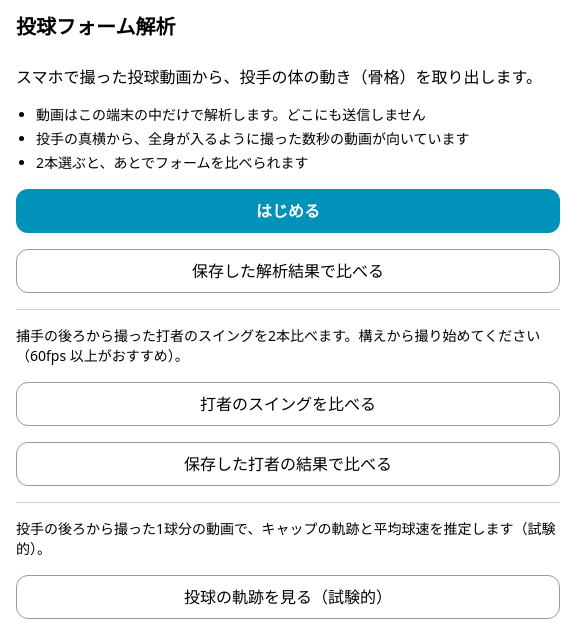
Test: App › はじめに画面から、打者のスイングの比較に進める
Click the button "打者のスイングを比べる": coordinates (288, 404) left=16, top=382, right=560, bottom=426
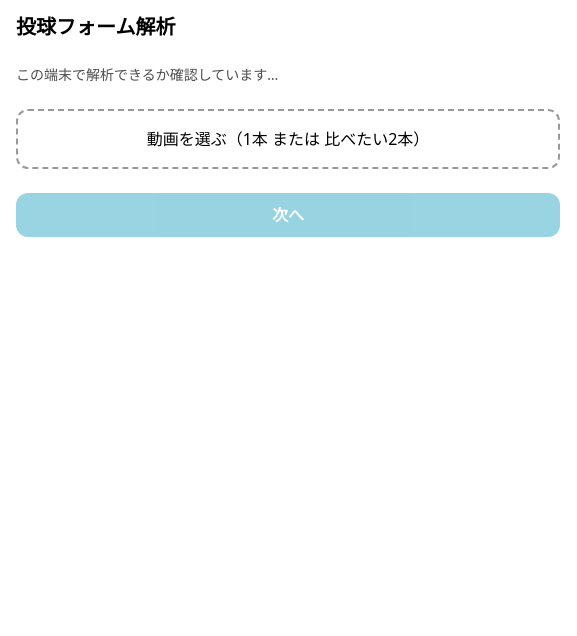
expect the text "この端末で解析できるか確認しています…" is shown: met, box left=16, top=65, right=278, bottom=84
expect the button "次へ" is disabled: met, box left=16, top=193, right=560, bottom=237
